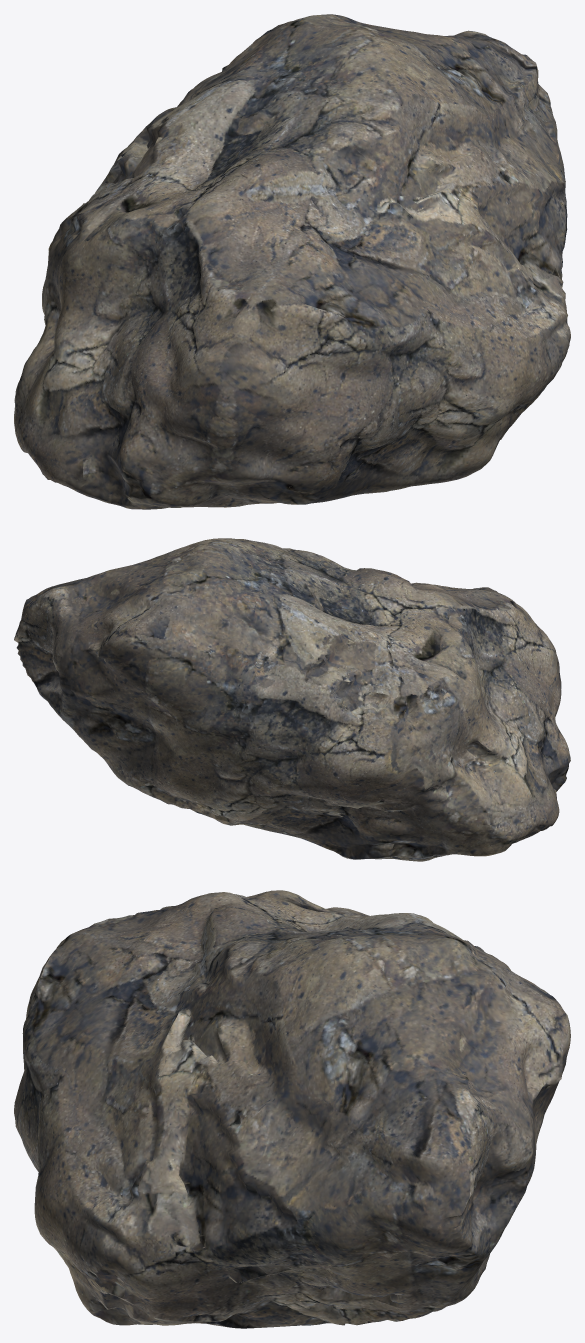
The model's file is Trestraou rock2.dae.
3 renders of one model, top to bottom at view 1: azimuth 30°, elevation 25°; view 2: azimuth 150°, elevation 25°; view 3: azimuth 270°, elevation 25°, orthographic. The views are drawn at different scales.
Visible parts, largest first — view 1: Trestraou_rock2; view 2: Trestraou_rock2; view 3: Trestraou_rock2.
Boxes of the visible parts, x1,y1,x2,y2 form: Trestraou_rock2: [14, 14, 570, 509]; Trestraou_rock2: [14, 538, 570, 861]; Trestraou_rock2: [14, 890, 570, 1328].
Bounding box in the file's own units: 0.8957 × 0.6614 × 0.5099.
1 material, 1 textured.
